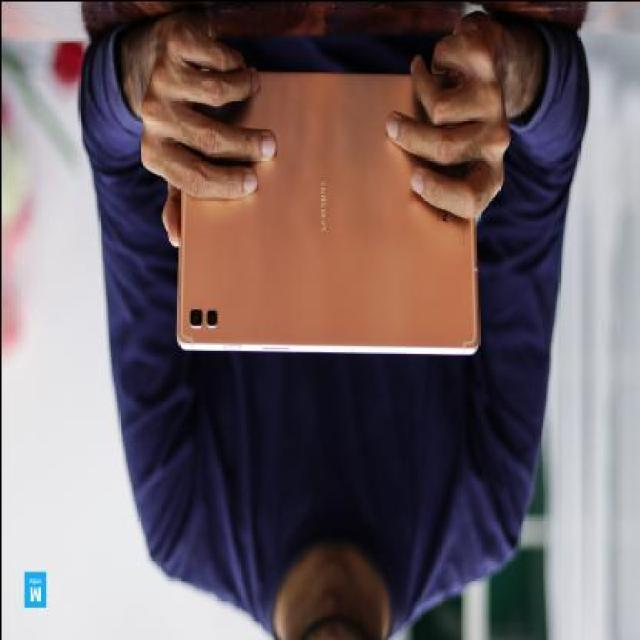tablet: (168, 53, 499, 385)
